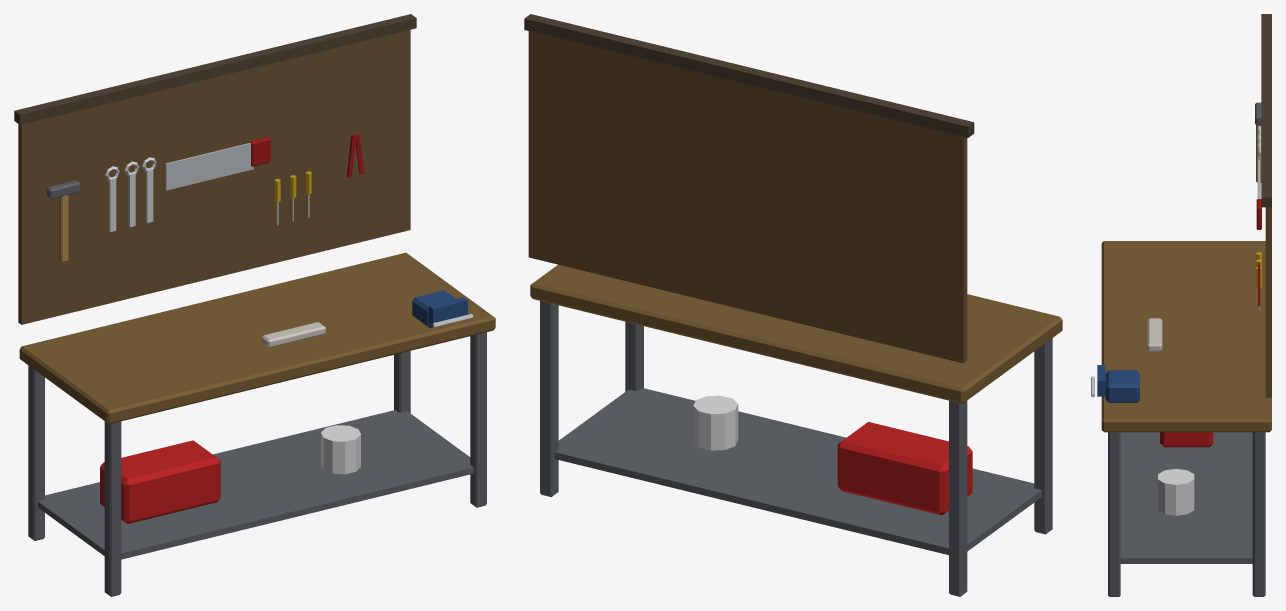
File: workbench.glb
3 views of the same model, side by side, from view 1: azimuth 30°, elevation 25°; view 2: azimuth 150°, elevation 25°; view 3: azimuth 270°, elevation 25° (orthographic). The views are drawn at different scales.
Visible parts, largest first — view 1: workbench; view 2: workbench; view 3: workbench.
Boxes of the visible parts, x1,y1,x2,y2 form: workbench: (14,14,495,596); workbench: (524,14,1062,596); workbench: (1091,14,1271,596).
Size of the model in its own units: 2.04 by 2.1 by 0.8495.
